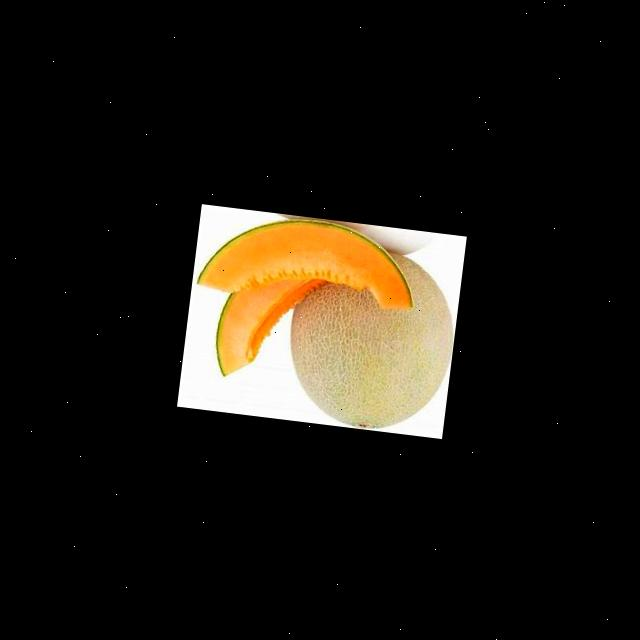Hami Melon: (278, 242, 461, 436), (196, 206, 420, 312)
